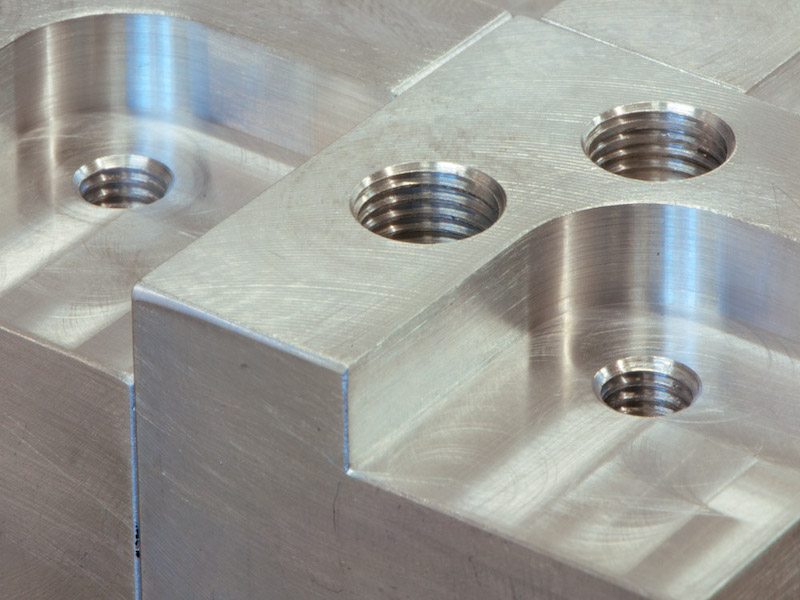hole: (347, 158, 510, 248), (578, 99, 740, 184), (591, 353, 704, 420), (73, 152, 177, 213)
